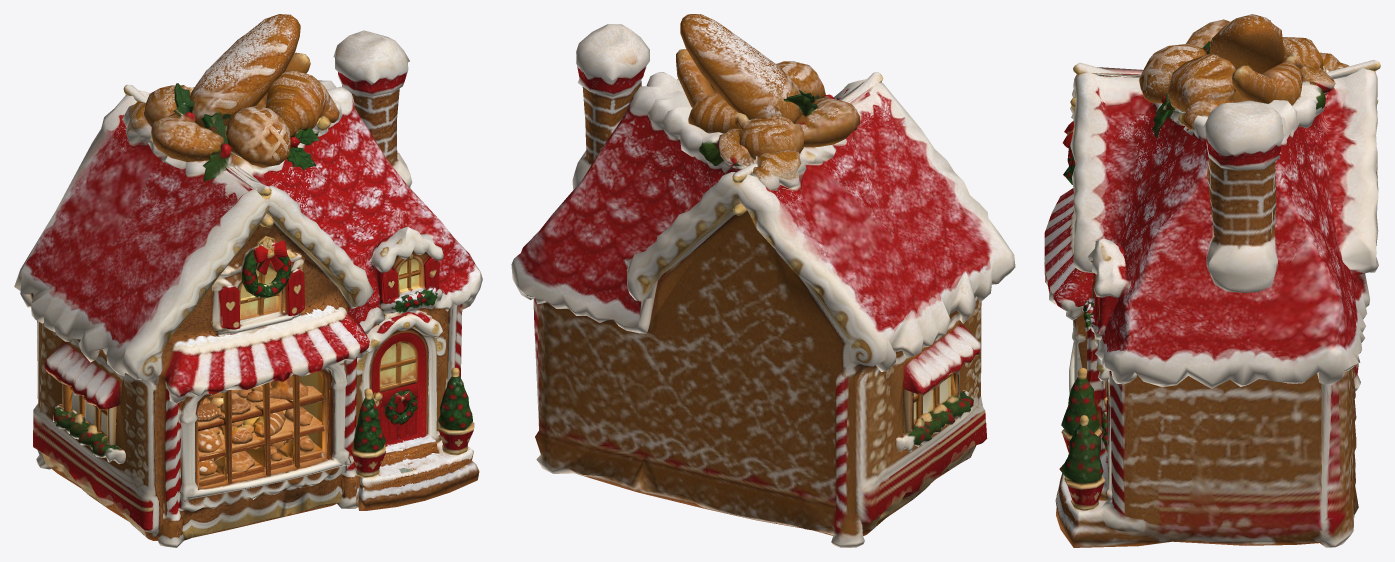
File: AW-XMAS-BAKERY-001-v0.2.glb
3 views of the same model, side by side, from view 1: azimuth 30°, elevation 25°; view 2: azimuth 150°, elevation 25°; view 3: azimuth 270°, elevation 25° (orthographic). The views are drawn at different scales.
Parts seen in each view (by area): view 1: AW-XMAS-BAKERY-001_meter_ground_pivot; view 2: AW-XMAS-BAKERY-001_meter_ground_pivot; view 3: AW-XMAS-BAKERY-001_meter_ground_pivot.
Boxes of the visible parts, x1=… form: AW-XMAS-BAKERY-001_meter_ground_pivot: x1=14, y1=14, x2=482, y2=547; AW-XMAS-BAKERY-001_meter_ground_pivot: x1=511, y1=14, x2=1015, y2=547; AW-XMAS-BAKERY-001_meter_ground_pivot: x1=1044, y1=14, x2=1380, y2=547.
Size of the model in its own units: 6.38 by 7 by 4.53.
1 material, 1 textured.
